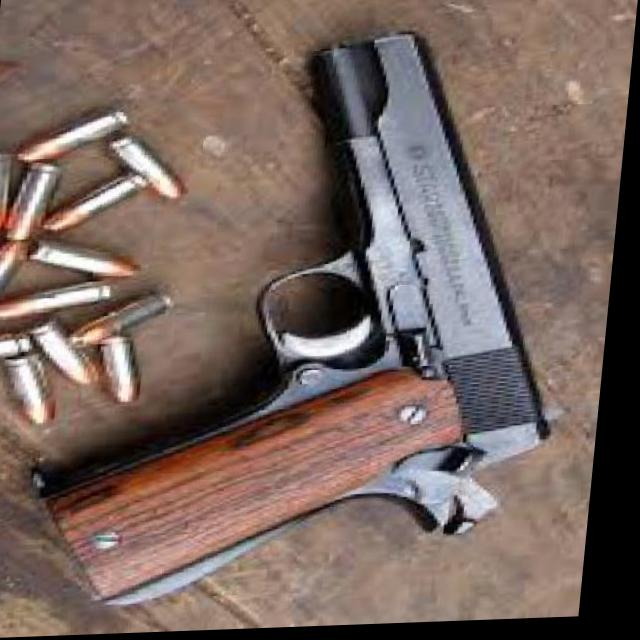handgun: (44, 28, 588, 608)
